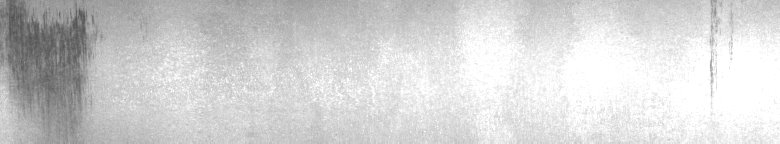ka: (4, 4, 102, 104)
